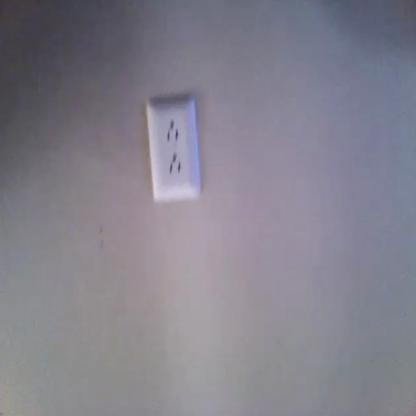OUTLET: (148, 100, 197, 202)
